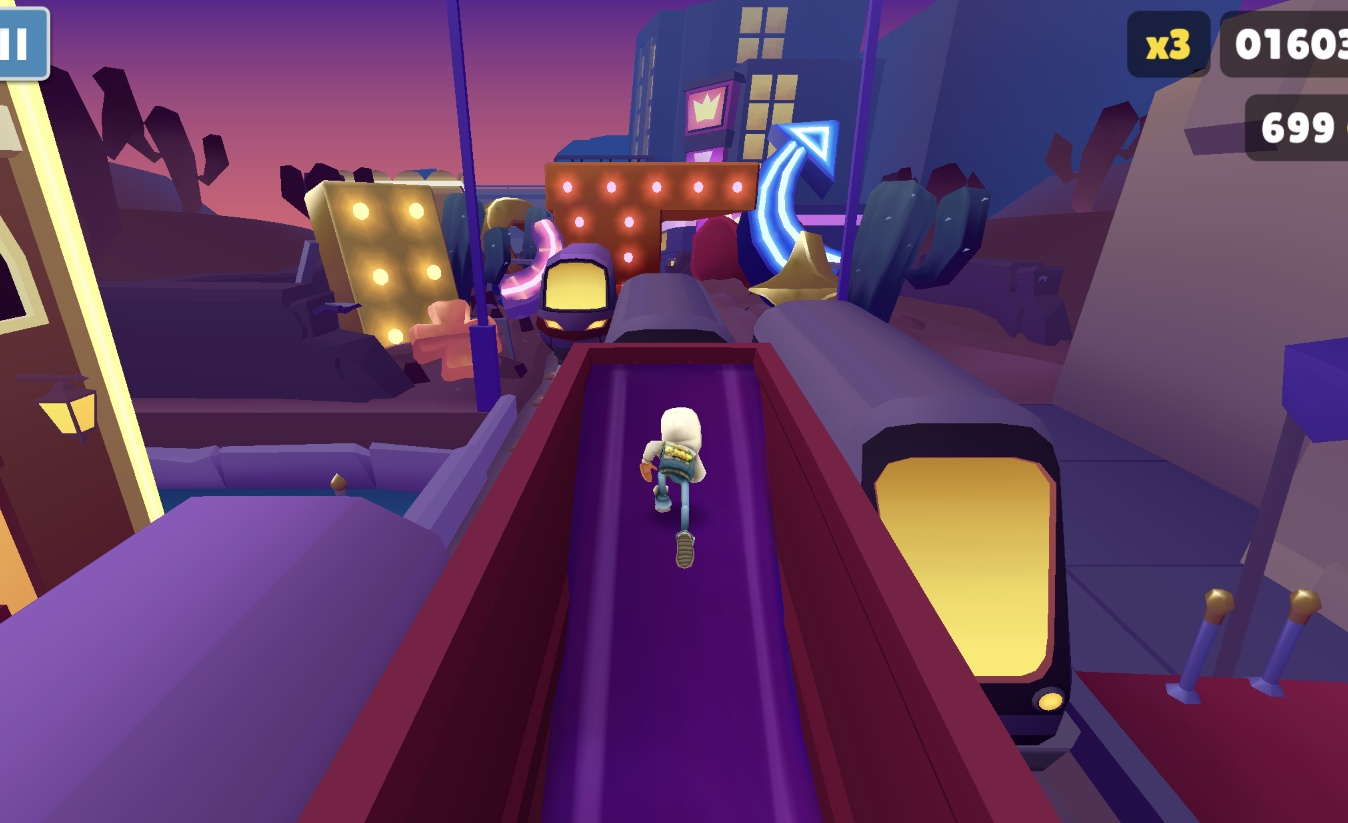pillar: (570, 213, 663, 282)
train: (301, 273, 1088, 823), (752, 302, 1078, 770), (0, 496, 451, 823), (532, 244, 621, 362)
